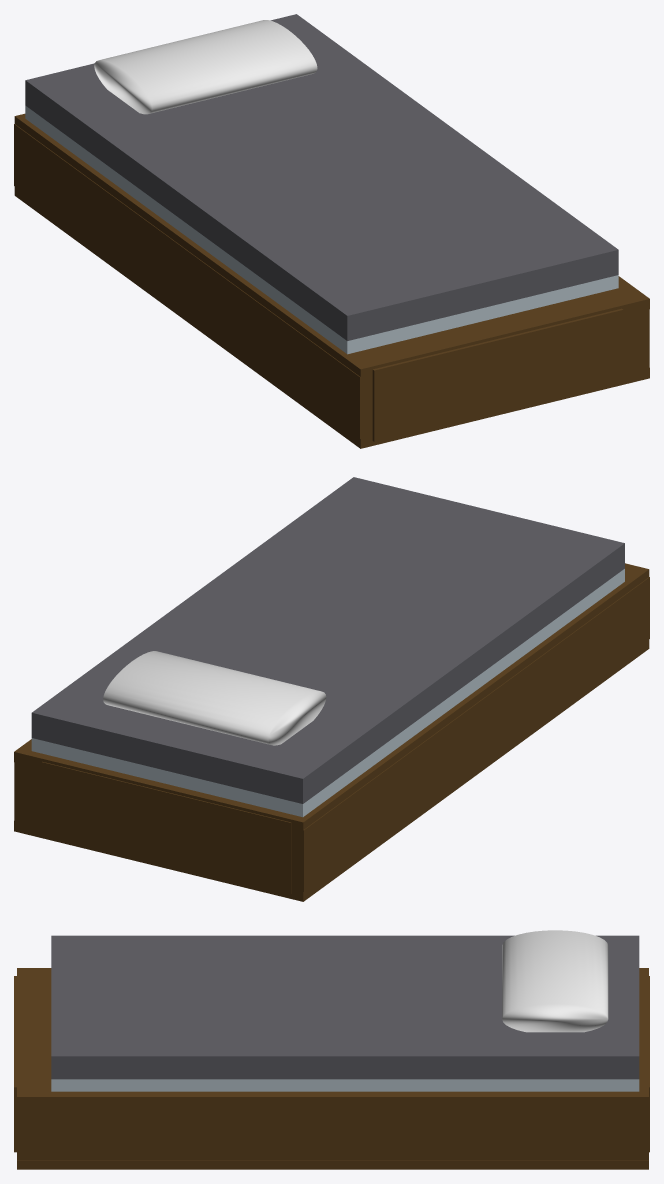
The model's file is TwinBedblend.fbx.
3 renders of one model, top to bottom at view 1: azimuth 30°, elevation 25°; view 2: azimuth 150°, elevation 25°; view 3: azimuth 270°, elevation 25°, orthographic. The views are drawn at different scales.
Parts seen in each view (by area): view 1: Cube, Cube.002, Cylinder; view 2: Cube, Cube.002, Cylinder; view 3: Cube, Cube.002, Cylinder.
Boxes of the visible parts, x1=… form: Cube: x1=25, y1=14, x2=618, y2=354; Cube.002: x1=14, y1=113, x2=649, y2=448; Cylinder: x1=94, y1=20, x2=317, y2=114; Cube: x1=31, y1=477, x2=624, y2=817; Cube.002: x1=14, y1=563, x2=649, y2=901; Cylinder: x1=103, y1=651, x2=326, y2=745; Cube: x1=51, y1=935, x2=639, y2=1091; Cube.002: x1=14, y1=968, x2=649, y2=1169; Cylinder: x1=502, y1=930, x2=608, y2=1032.
Bounding box in the file's own units: 519 × 255 × 1080.
